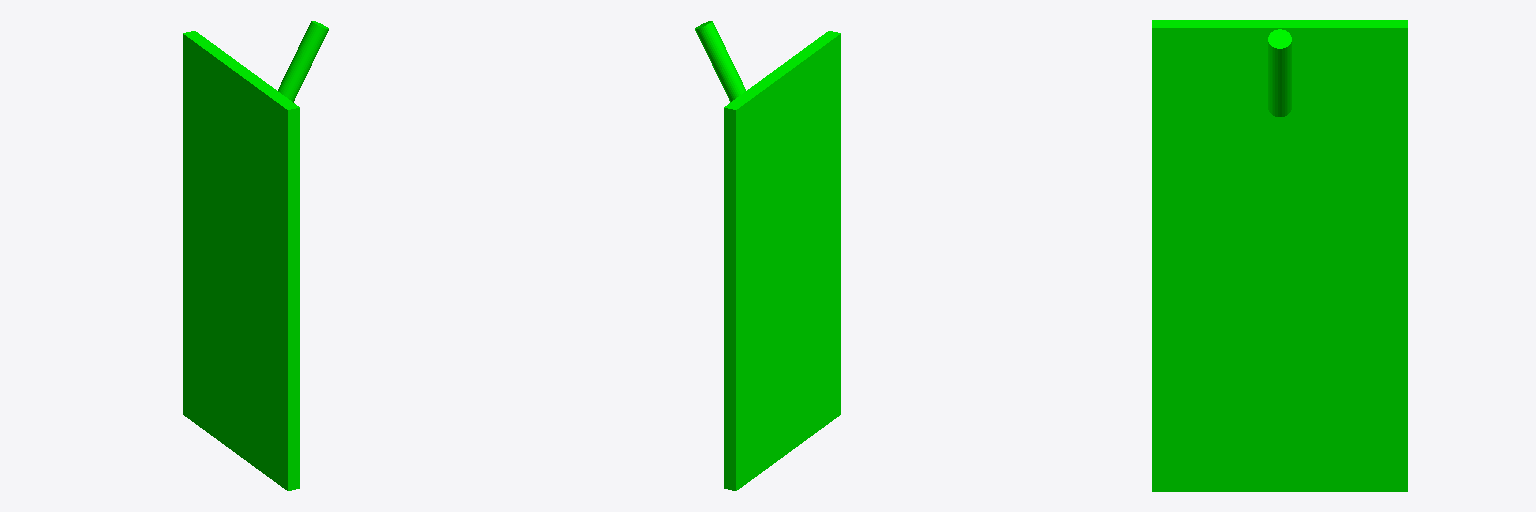
The robot description file, URDF, robot "shelf":
<?xml version="0.0" ?>
<robot name="shelf">
  <link name="base_link">
    <contact>
      <lateral_friction value="0.8"/>
      <rolling_friction value="0.0001"/>
      <spinning_friction value="0.8"/>
    </contact>
    <inertial>
      <origin rpy="0 0 0" xyz="0 0 0"/>
       <mass value=".0"/>
       <inertia ixx="1" ixy="0" ixz="0" iyy="1" iyz="0" izz="1"/>
    </inertial>

    <!--visual>
      <origin rpy="0 0 0" xyz="0 0 0.15"/>
      <geometry>
        <cylinder length="0.3" radius="0.005"/>
      </geometry>
       <material name="green">
        <color rgba="0 1 0 1"/>
      </material>
    </visual>
    <collision>
      <origin rpy="0 0 0" xyz="0 0 0.15"/>
      <geometry>
        <cylinder length="0.3" radius="0.005"/>
      </geometry>
    </collision-->

    <visual>
      <origin rpy="0 0 0" xyz="0 0 0.10"/>
      <geometry>
        <box size="0.01 0.15 0.3" />
      </geometry>
       <material name="green">
        <color rgba="0 1 0 1"/>
      </material>
    </visual>
    <collision>
      <origin rpy="0 0 0" xyz="0 0 0.10"/>
      <geometry>
        <box size="0.01 0.15 0.3" />
      </geometry>
    </collision>
  </link>

  <link name="branch_base">
    <contact>
      <lateral_friction value="0.1"/>
      <rolling_friction value="0.0001"/>
      <spinning_friction value="0.1"/>
    </contact>
    <inertial>
      <origin rpy="0 0 0" xyz="0 0 0"/>
       <mass value=".0"/>
       <inertia ixx="1" ixy="0" ixz="0" iyy="1" iyz="0" izz="1"/>
    </inertial>
    <visual>
      <origin rpy="0 0 0" xyz="0 0 0.015"/>
      <geometry>
        <cylinder length="0.03" radius="0.007"/>
      </geometry>
       <material name="green">
        <color rgba="0 1 0 1"/>
      </material>
    </visual>
    <collision>
      <origin rpy="0 0 0" xyz="0 0 0.015"/>
      <geometry>
        <cylinder length="0.03" radius="0.007"/>
      </geometry>
    </collision>
  </link>

  <link name="branch">
    <contact>
      <lateral_friction value="0.1"/>
      <rolling_friction value="0.0001"/>
      <spinning_friction value="0.1"/>
    </contact>
    <inertial>
      <origin rpy="0 0 0" xyz="0 0 0"/>
       <mass value=".0"/>
       <inertia ixx="1" ixy="0" ixz="0" iyy="1" iyz="0" izz="1"/>
    </inertial>
    <visual>
      <origin rpy="0 0 0" xyz="0 0 0.035"/>
      <geometry>
        <cylinder length="0.07" radius="0.007"/>
      </geometry>
       <material name="green">
        <color rgba="0 1 0 1"/>
      </material>
    </visual>
    <collision>
      <origin rpy="0 0 0" xyz="0 0 0.035"/>
      <geometry>
        <cylinder length="0.07" radius="0.007"/>
      </geometry>
    </collision>
  </link>

  <joint name="base_to_branch_base" type="fixed">
    <parent link="base_link"/>
    <child link="branch_base"/>
    <origin rpy="0 1.5707963267948966 0" xyz="0.0 0 0.21"/>
  </joint>

  <!--joint name="base_to_branch" type="fixed">
    <parent link="base_link"/>
    <child link="branch"/>
    <origin rpy="0 1.0471975511965977461 0" xyz="0 0 0.2"/>
  </joint-->
  <joint name="base_to_branch" type="fixed">
    <parent link="branch_base"/>
    <child link="branch"/>
    <origin rpy="0 -1.0471975511965976 0" xyz="0.0 0 0.03"/>
  </joint>

</robot>

--- What the picture shows (computed from the rendered views, not written in the file) ---
Views: 3 orthographic renders of the robot side by side, from view 1: azimuth 30°, elevation 25°; view 2: azimuth 150°, elevation 25°; view 3: azimuth 270°, elevation 25°.
Model shelf with 3 links and 2 joints (2 fixed), rooted at base_link, posed all joints at 0.
Visible links, largest first — view 1: base_link, branch; view 2: base_link, branch; view 3: base_link, branch.
Boxes of the visible links, x1,y1,x2,y2 form: base_link: (183,31,299,490); branch: (278,21,328,102); base_link: (724,31,840,490); branch: (695,21,745,102); base_link: (1152,20,1407,491); branch: (1268,29,1291,116).
Size in the robot's own frame: 0.0761 by 0.15 by 0.3241 metres.
Geometry: primitives only (box / cylinder / sphere), no mesh files.